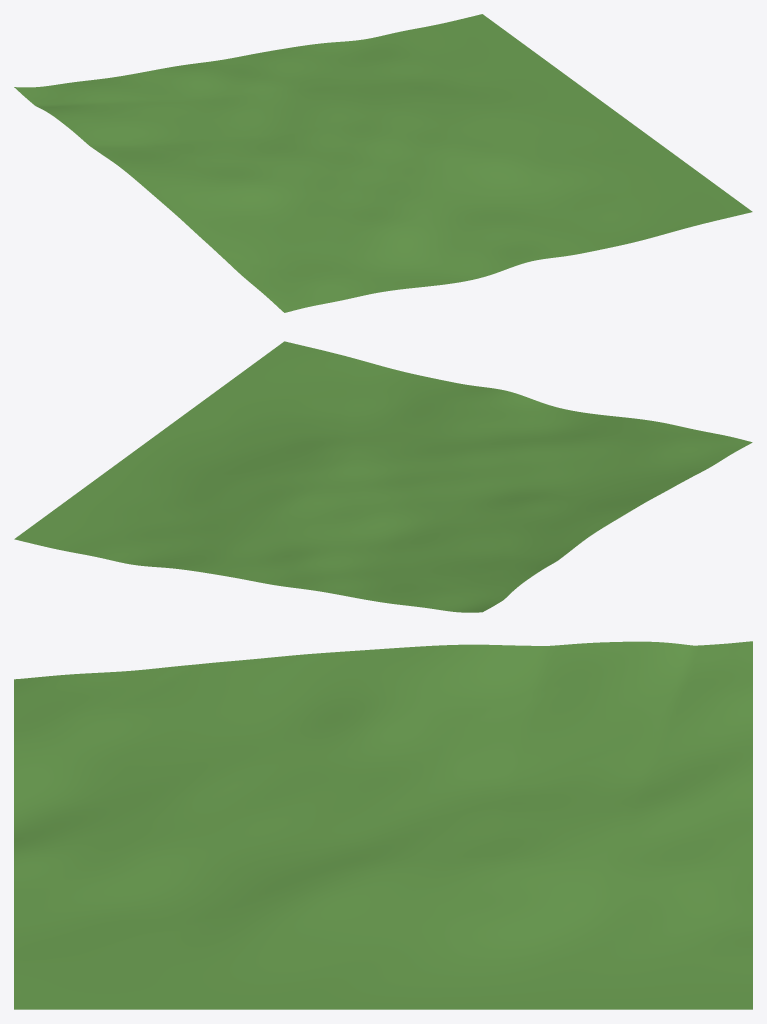
File: SM_Terrain_07_05.fbx
3 views of the same model, one above another, from view 1: azimuth 30°, elevation 25°; view 2: azimuth 150°, elevation 25°; view 3: azimuth 270°, elevation 25° (orthographic). The views are drawn at different scales.
Visible parts, largest first — view 1: SM_Terrain_07_05; view 2: SM_Terrain_07_05; view 3: SM_Terrain_07_05.
Part boxes in pixels (x1=…): SM_Terrain_07_05: x1=14, y1=14, x2=752, y2=312; SM_Terrain_07_05: x1=14, y1=341, x2=752, y2=612; SM_Terrain_07_05: x1=14, y1=641, x2=752, y2=1009.
Size of the model in its own units: 384 by 33.45 by 384.
